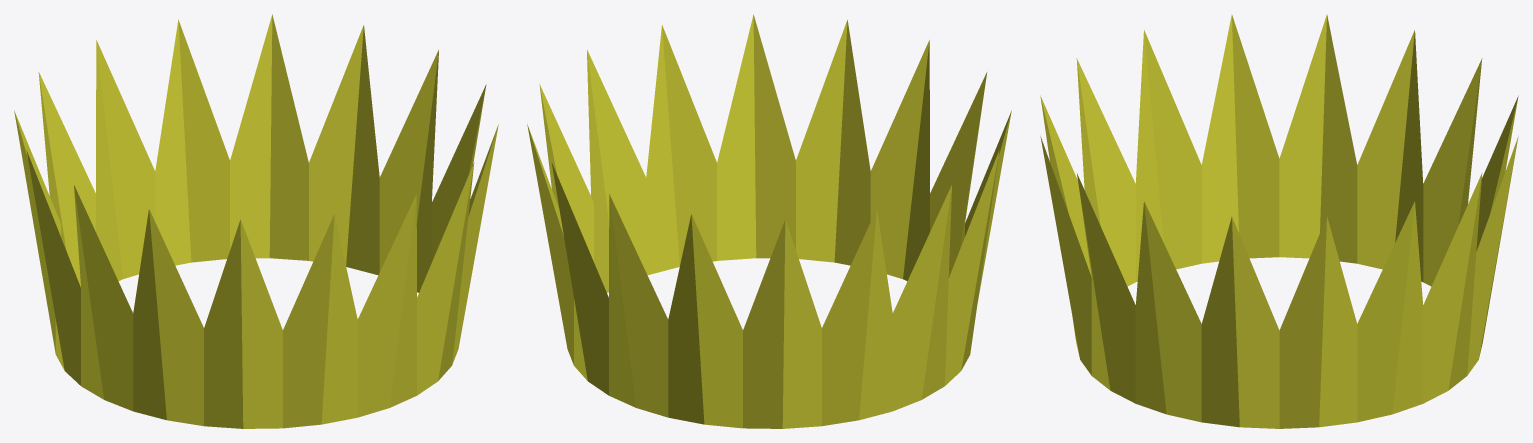
File: crown.glb
3 views of the same model, side by side, from view 1: azimuth 30°, elevation 25°; view 2: azimuth 150°, elevation 25°; view 3: azimuth 270°, elevation 25° (orthographic).
Visible parts, largest first — view 1: Circle; view 2: Circle; view 3: Circle.
Boxes of the visible parts, x1,y1,x2,y2 form: Circle: (14, 14, 498, 428); Circle: (527, 14, 1011, 428); Circle: (1040, 14, 1518, 428).
Size of the model in its own units: 2.35 by 1.24 by 2.35.
